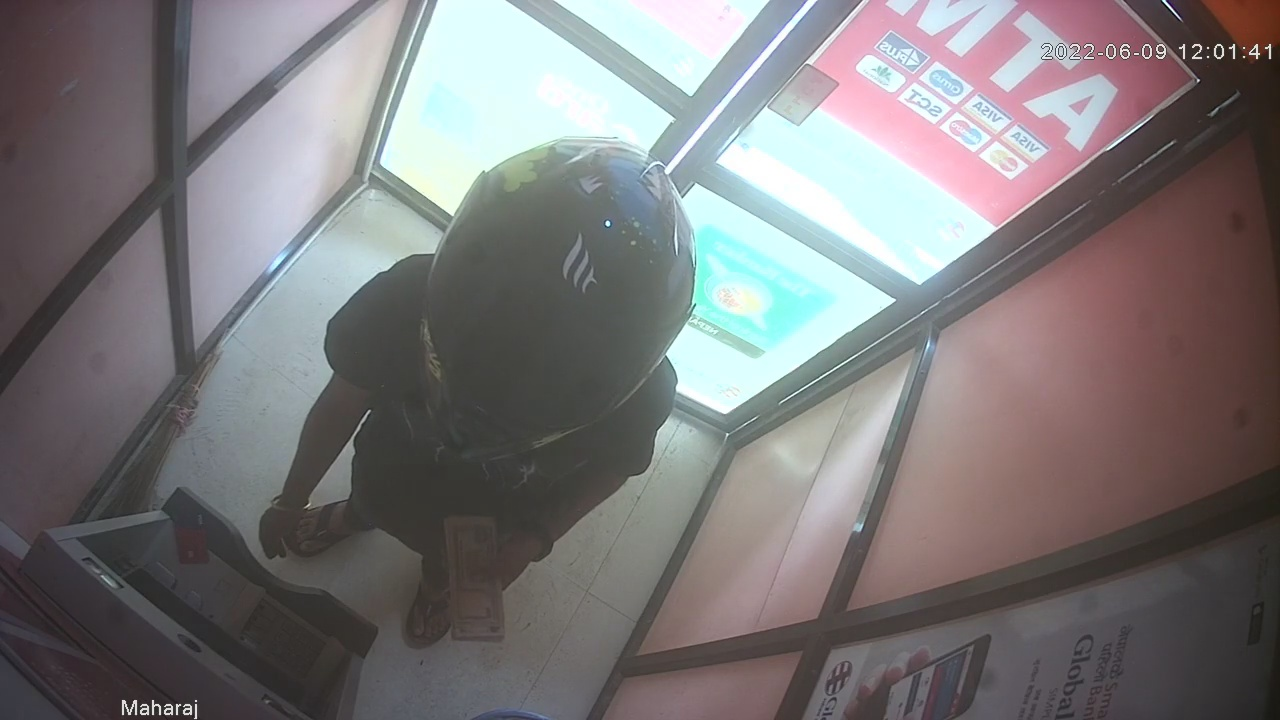helmet: (413, 138, 695, 461)
person: (258, 137, 697, 652)
